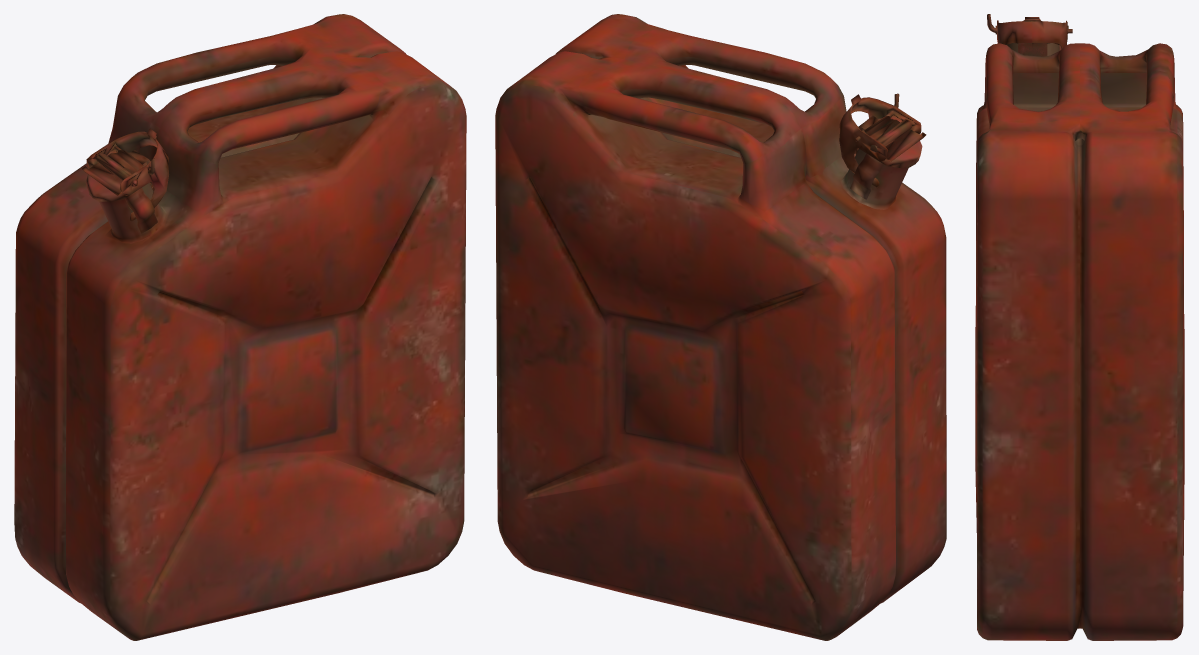
File: ph_metal_jerrycan.glb
3 views of the same model, side by side, from view 1: azimuth 30°, elevation 25°; view 2: azimuth 150°, elevation 25°; view 3: azimuth 270°, elevation 25° (orthographic). The views are drawn at different scales.
Parts seen in each view (by area): view 1: metal_jerrycan; view 2: metal_jerrycan; view 3: metal_jerrycan.
Boxes of the visible parts, left/top/right/bottom form: metal_jerrycan: left=14, top=14, right=466, bottom=640; metal_jerrycan: left=495, top=14, right=946, bottom=640; metal_jerrycan: left=975, top=14, right=1184, bottom=640.
Size of the model in its own units: 0.35 by 0.4548 by 0.1717.
Materials: 1 (1 with a texture image).
